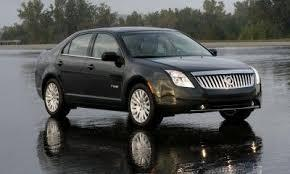Mercury: (220, 72, 240, 88)
